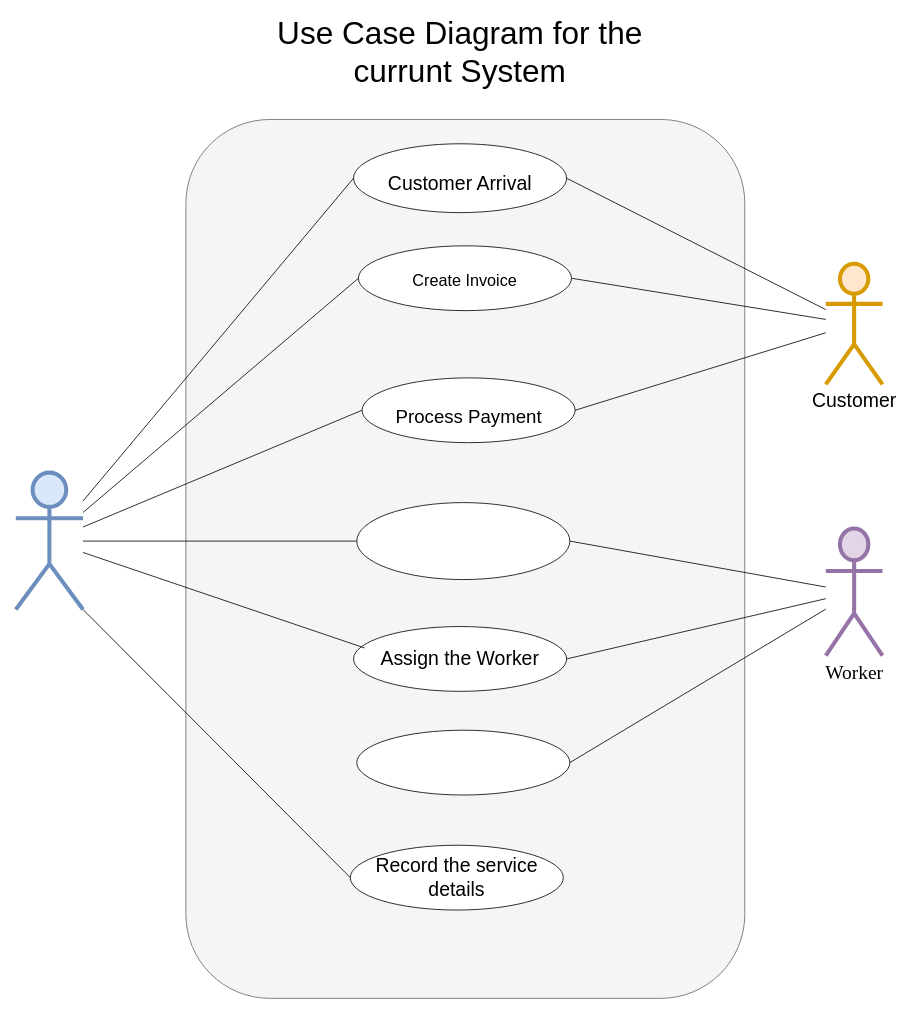
This 910x1013 diagram has some shape labels left out. Each missing label, with the centre of its shape:
Inspect Tyre: (463,541)
Owner: (49,540)
Service Performed: (463,762)
